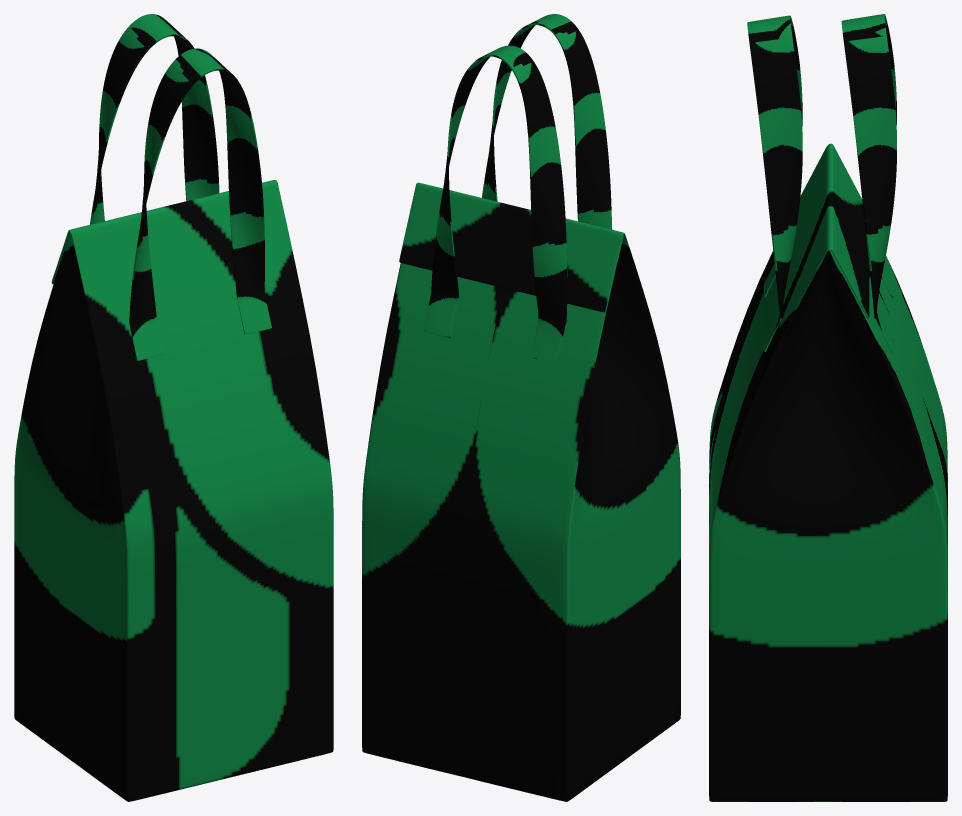
The picture shows the model from 3 angles, left to right: view 1: azimuth 30°, elevation 25°; view 2: azimuth 150°, elevation 25°; view 3: azimuth 270°, elevation 25°; orthographic projection. The views are drawn at different scales.
Visible parts, largest first — view 1: 贴图, 手提绳; view 2: 贴图, 手提绳; view 3: 贴图, 手提绳.
Part boxes in pixels (box(x1,y1,x2,y2)): 贴图: box(14, 180, 333, 801); 手提绳: box(90, 14, 271, 360); 贴图: box(362, 182, 680, 801); 手提绳: box(423, 14, 612, 362); 贴图: box(709, 143, 947, 801); 手提绳: box(747, 14, 896, 353).
Bounding box in the file's own units: 115 × 372 × 110.
Materials: 3 (3 with a texture image).
